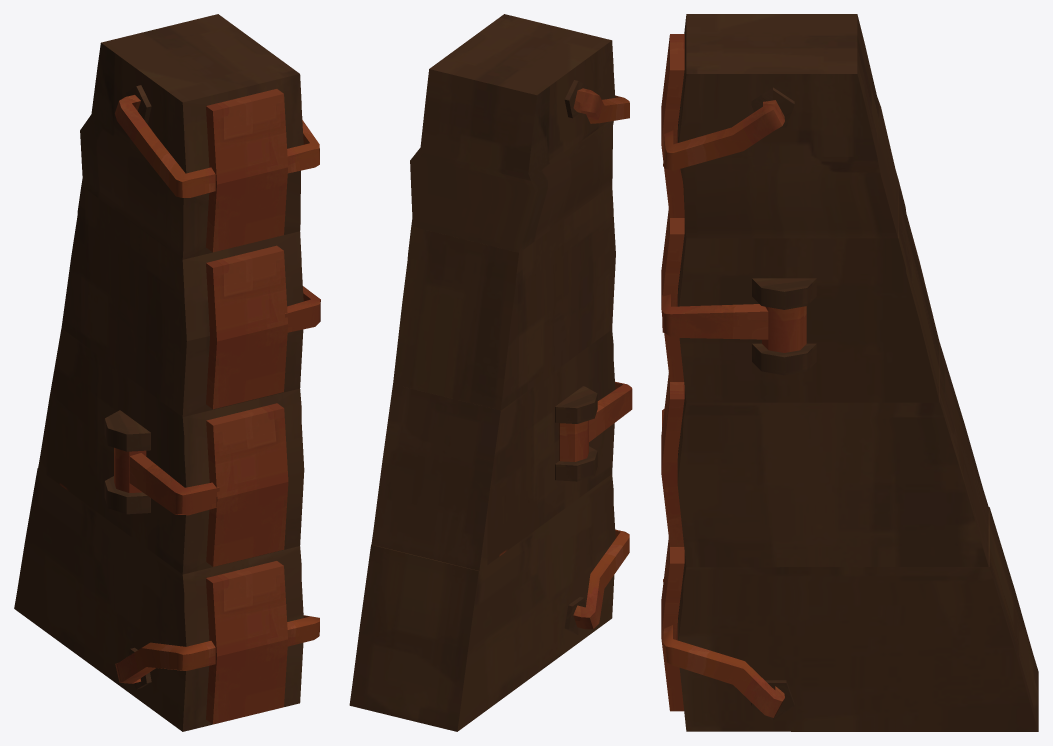
The model's file is inkHouseBiggest.fbx.
3 views of the same model, side by side, from view 1: azimuth 30°, elevation 25°; view 2: azimuth 150°, elevation 25°; view 3: azimuth 270°, elevation 25° (orthographic). The views are drawn at different scales.
Visible parts, largest first — view 1: inkHouse04_botmPart, inkHouse04_topPart, inkHouse04_secondTopPart, inkHouse04_secondBotmPart, inkHouse04_secondBotmLid, inkHouse04_topLid, inkHouse04_botmLid, inkHouse04_secondTopLid; view 2: inkHouse04_botmPart, inkHouse04_topPart, inkHouse04_secondTopPart, inkHouse04_secondBotmPart, inkHouse04_secondBotmLid, inkHouse04_botmLid, inkHouse04_topLid; view 3: inkHouse04_botmPart, inkHouse04_secondBotmPart, inkHouse04_topPart, inkHouse04_secondTopPart, inkHouse04_secondTopLid, inkHouse04_topLid, inkHouse04_botmLid, inkHouse04_secondBotmLid.
Part boxes in pixels (<box>): inkHouse04_botmPart: <box>14,468,303,731</box>; inkHouse04_topPart: <box>80,14,303,259</box>; inkHouse04_secondTopPart: <box>61,186,303,416</box>; inkHouse04_secondBotmPart: <box>38,328,304,574</box>; inkHouse04_secondBotmLid: <box>104,403,288,566</box>; inkHouse04_topLid: <box>115,85,319,252</box>; inkHouse04_botmLid: <box>115,561,319,724</box>; inkHouse04_secondTopLid: <box>206,245,320,409</box>; inkHouse04_botmPart: <box>349,474,615,731</box>; inkHouse04_topPart: <box>410,14,615,252</box>; inkHouse04_secondTopPart: <box>393,185,615,410</box>; inkHouse04_secondBotmPart: <box>371,329,615,570</box>; inkHouse04_secondBotmLid: <box>555,381,632,481</box>; inkHouse04_botmLid: <box>564,529,629,634</box>; inkHouse04_topLid: <box>564,80,629,123</box>; inkHouse04_botmPart: <box>677,507,1038,731</box>; inkHouse04_secondBotmPart: <box>677,343,988,567</box>; inkHouse04_topPart: <box>677,14,897,238</box>; inkHouse04_secondTopPart: <box>677,178,939,402</box>; inkHouse04_secondTopLid: <box>661,208,816,381</box>; inkHouse04_topLid: <box>661,34,794,217</box>; inkHouse04_botmLid: <box>661,537,794,720</box>; inkHouse04_secondBotmLid: <box>661,373,684,546</box>.
Bounding box in the file's own units: 3.2 × 11.21 × 5.83.
